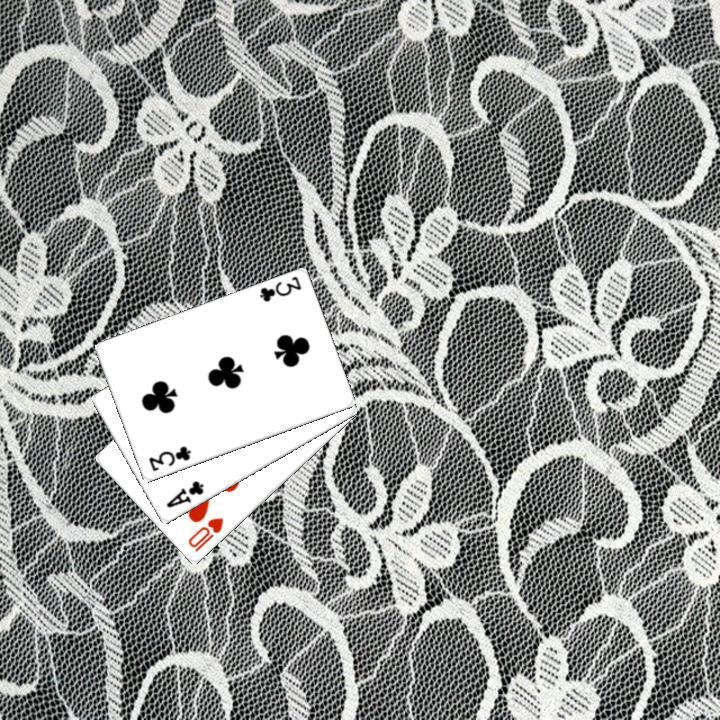10: (184, 513, 225, 554)
3: (144, 442, 193, 474), (255, 272, 303, 304)
A: (161, 476, 206, 510)
